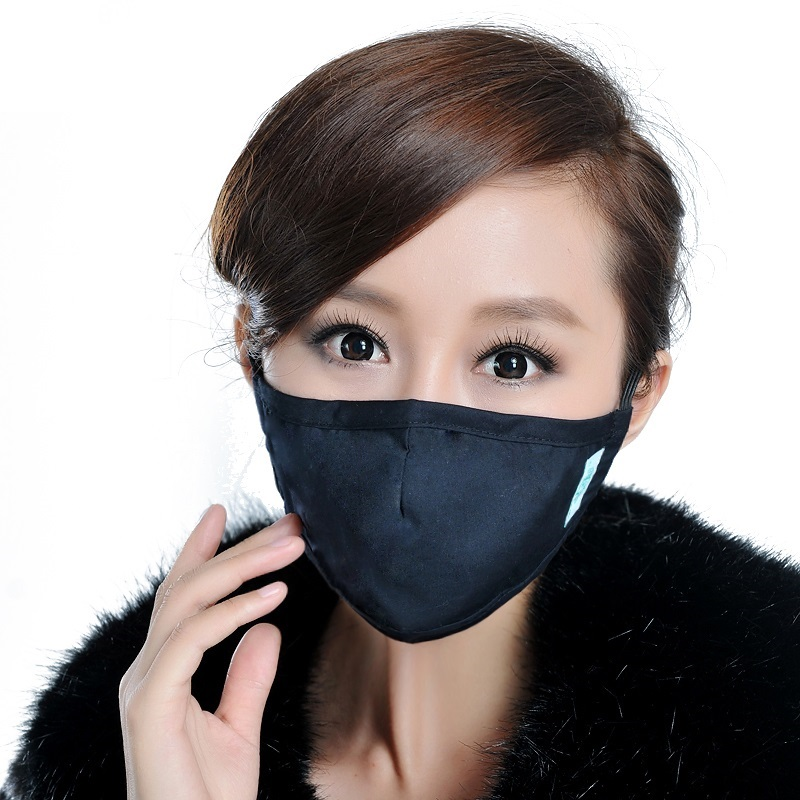face_mask: (267, 183, 615, 621)
